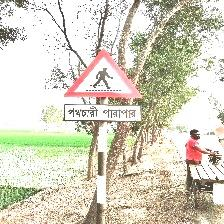Pedestrian-crossing: (63, 49, 143, 123)
